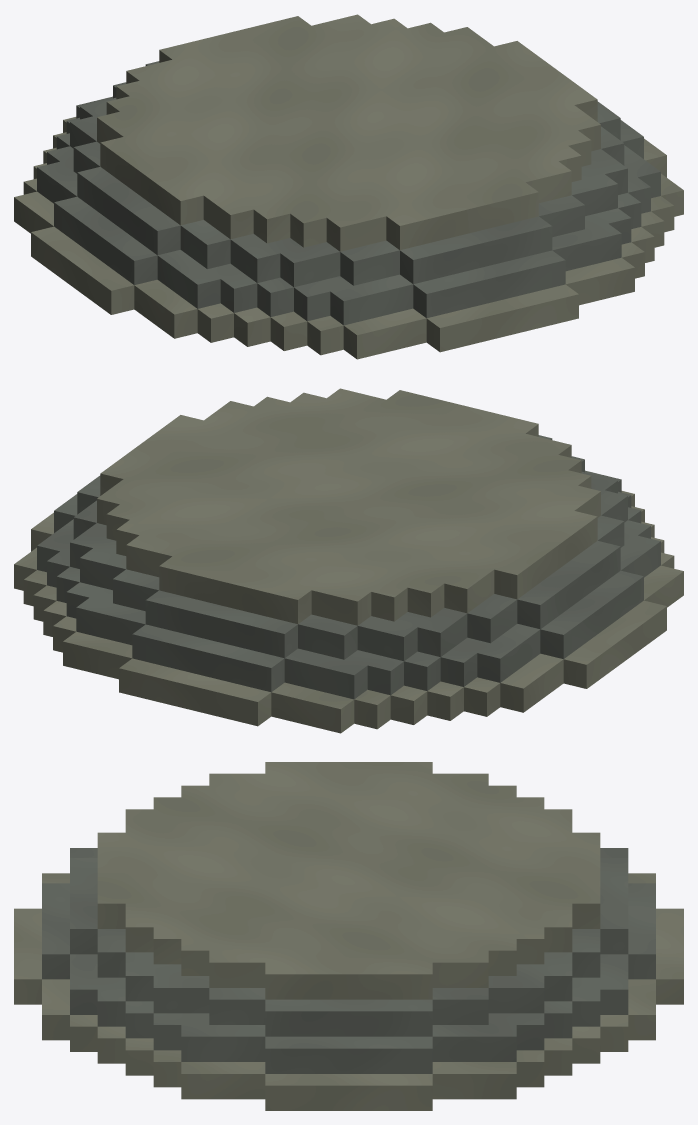
File: PLINTH_RING.glb
3 renders of one model, top to bottom at view 1: azimuth 30°, elevation 25°; view 2: azimuth 150°, elevation 25°; view 3: azimuth 270°, elevation 25°, orthographic. The views are drawn at different scales.
Visible parts, largest first — view 1: PLINTH_RING; view 2: PLINTH_RING; view 3: PLINTH_RING.
Part boxes in pixels (bbox=[...]): PLINTH_RING: bbox=[14, 14, 683, 359]; PLINTH_RING: bbox=[14, 388, 683, 733]; PLINTH_RING: bbox=[14, 762, 683, 1110].
Size of the model in its own units: 3 by 0.5 by 3.
2 materials, 2 textured.
